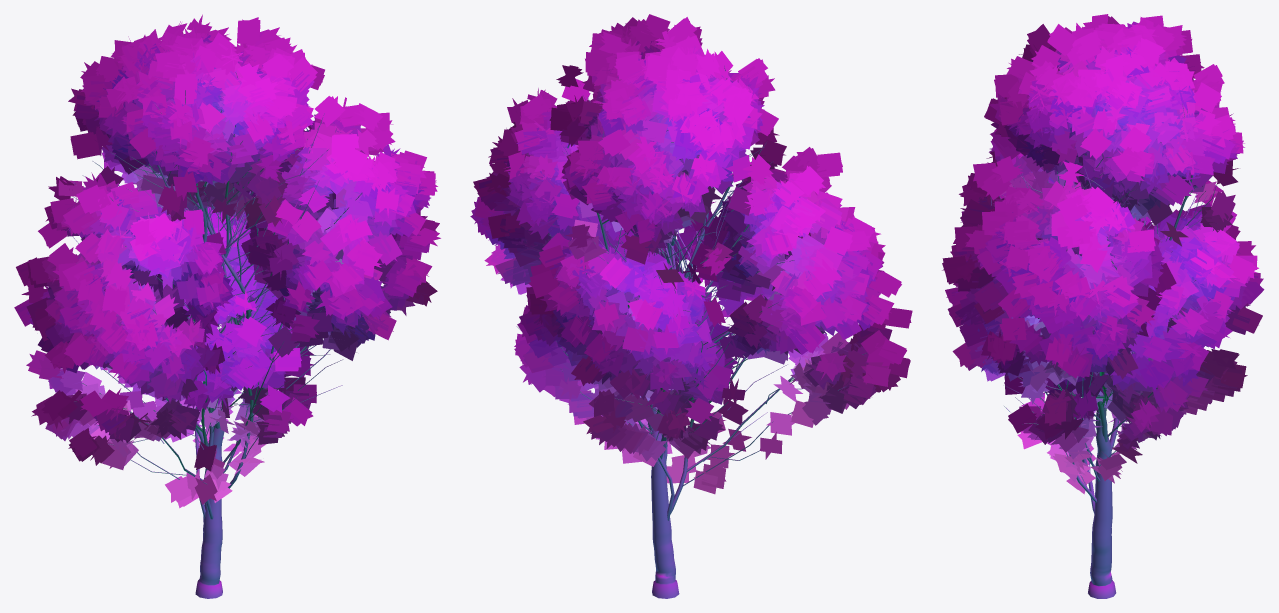
The model's file is tree_birch_s2_a30.fbx.
3 renders of one model, left to right at view 1: azimuth 30°, elevation 25°; view 2: azimuth 150°, elevation 25°; view 3: azimuth 270°, elevation 25°, orthographic.
Parts seen in each view (by area): view 1: tree_birch_s2_a30_leaves, tree_birch_s2_a30_branches; view 2: tree_birch_s2_a30_leaves, tree_birch_s2_a30_branches; view 3: tree_birch_s2_a30_leaves, tree_birch_s2_a30_branches.
Part boxes in pixels (x1=…): tree_birch_s2_a30_leaves: x1=14, y1=14, x2=440, y2=508; tree_birch_s2_a30_branches: x1=72, y1=50, x2=400, y2=598; tree_birch_s2_a30_leaves: x1=470, y1=14, x2=912, y2=494; tree_birch_s2_a30_branches: x1=516, y1=65, x2=867, y2=598; tree_birch_s2_a30_leaves: x1=942, y1=14, x2=1264, y2=494; tree_birch_s2_a30_branches: x1=990, y1=65, x2=1216, y2=598.
Bounding box in the file's own units: 10.15 × 13.37 × 6.87.
